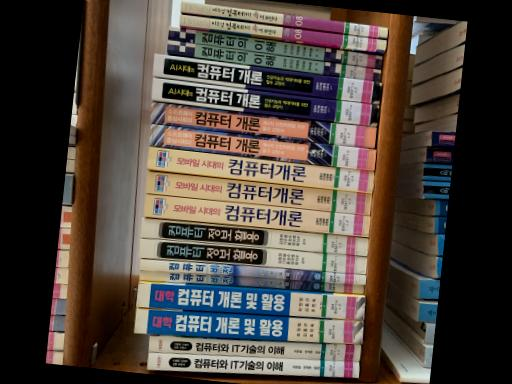book-spine: (153, 52, 381, 103), (151, 76, 380, 125), (149, 122, 376, 170), (149, 100, 376, 148), (147, 146, 373, 191), (146, 170, 371, 214), (143, 193, 369, 236), (167, 39, 382, 81), (168, 26, 381, 67), (140, 216, 367, 254), (134, 307, 363, 342), (137, 282, 364, 317), (139, 237, 365, 272), (179, 13, 386, 50), (181, 1, 387, 36), (139, 258, 365, 284), (147, 351, 359, 376), (148, 334, 360, 359), (139, 269, 363, 292)
